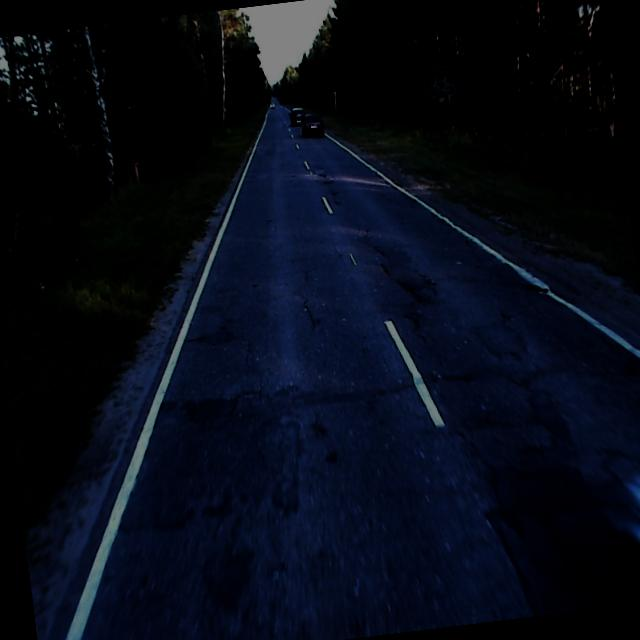road: (48, 103, 640, 640)
